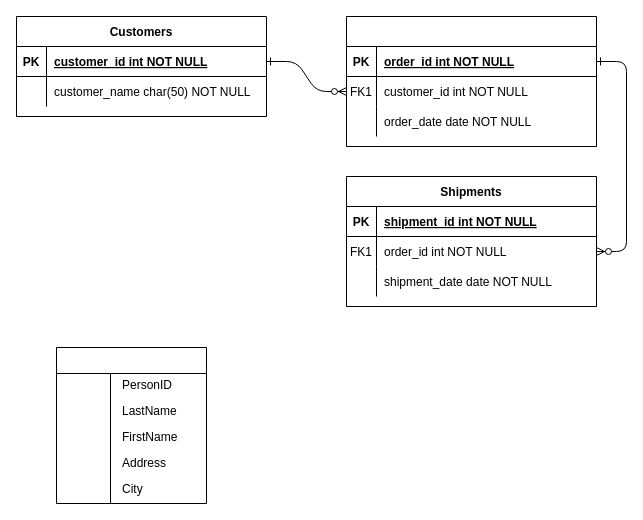
This 643x520 diagram has some shape labels left out. Each missing label, with the box of its shape:
Orders: (346, 16, 596, 146)
Persons: (56, 346, 206, 504)
